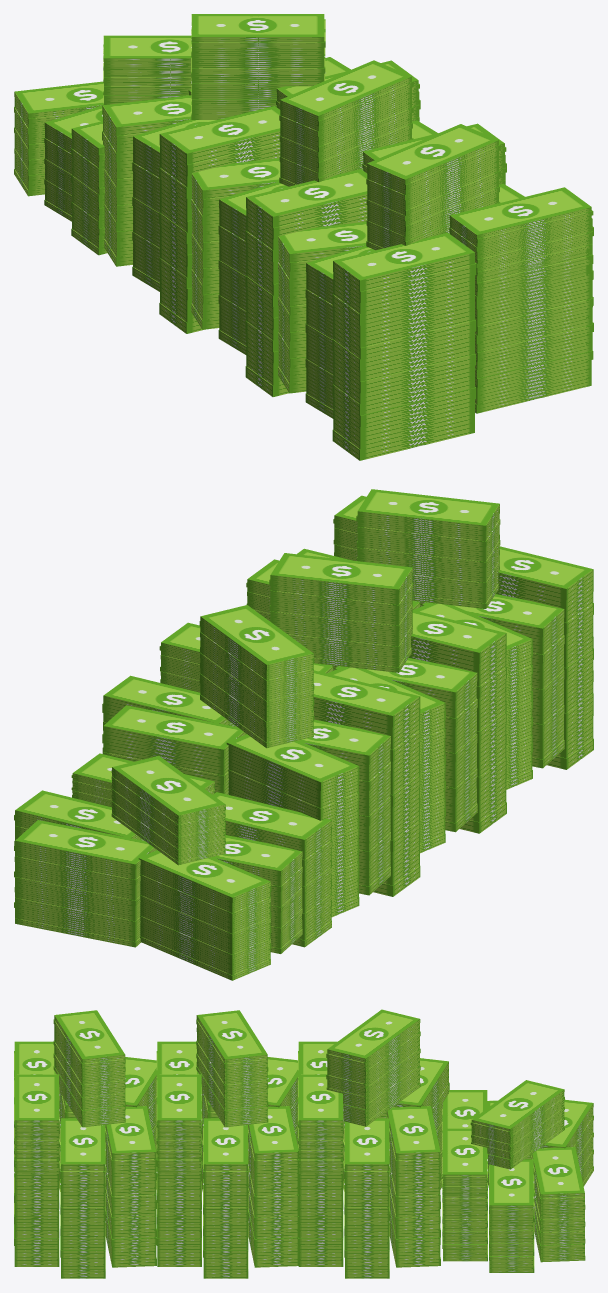
File: orangespor_money.fbx
The picture shows the model from 3 angles, top to bottom: view 1: azimuth 30°, elevation 25°; view 2: azimuth 150°, elevation 25°; view 3: azimuth 270°, elevation 25°; orthographic projection. The views are drawn at different scales.
Visible parts, largest first — view 1: Box1889, Box1886, Box1875, Box1883, Box1891, Box1881, Box1873, Box1890, Box1871, Box1887, Box1879, Box1867 (+8 smaller); view 2: Box1883, Box1047, Box1053, Box1891, Box1875, Box1871, Box1873, Box1881, Box1889, Box1867, Box1868, Box1055 (+12 smaller); view 3: Box1875, Box1868, Box1884, Box1876, Box1869, Box1877, Box1885, Box1891, Box1883, Box1867, Box1047, Box1048 (+17 smaller).
Boxes of the visible parts, x1,y1,x2,y2 form: Box1889: [332, 232, 476, 460]; Box1886: [475, 249, 593, 413]; Box1875: [191, 14, 325, 119]; Box1883: [279, 60, 413, 186]; Box1891: [366, 124, 500, 250]; Box1881: [245, 169, 367, 396]; Box1873: [159, 106, 280, 333]; Box1890: [449, 187, 593, 300]; Box1871: [102, 95, 191, 266]; Box1887: [278, 222, 367, 393]; Box1879: [191, 158, 280, 329]; Box1867: [103, 35, 191, 104]; Box1883: [269, 553, 413, 672]; Box1047: [14, 820, 156, 947]; Box1053: [138, 850, 271, 980]; Box1891: [356, 489, 500, 608]; Box1875: [199, 605, 314, 748]; Box1871: [226, 734, 359, 917]; Box1873: [313, 670, 420, 896]; Box1881: [408, 610, 506, 833]; Box1889: [496, 546, 593, 769]; Box1867: [111, 756, 225, 865]; Box1868: [102, 705, 246, 794]; Box1055: [213, 792, 332, 947]; Box1875: [326, 1009, 420, 1126]; Box1868: [386, 1106, 440, 1267]; Box1884: [105, 1106, 156, 1267]; Box1876: [248, 1106, 298, 1267]; Box1869: [344, 1118, 389, 1278]; Box1877: [203, 1118, 248, 1278]; Box1885: [60, 1118, 105, 1278]; Box1891: [53, 1010, 125, 1127]; Box1883: [196, 1010, 268, 1127]; Box1867: [470, 1080, 564, 1169]; Box1047: [530, 1147, 585, 1262]; Box1048: [489, 1159, 534, 1272].
Bounding box in the file's own units: 207 × 183 × 476.
